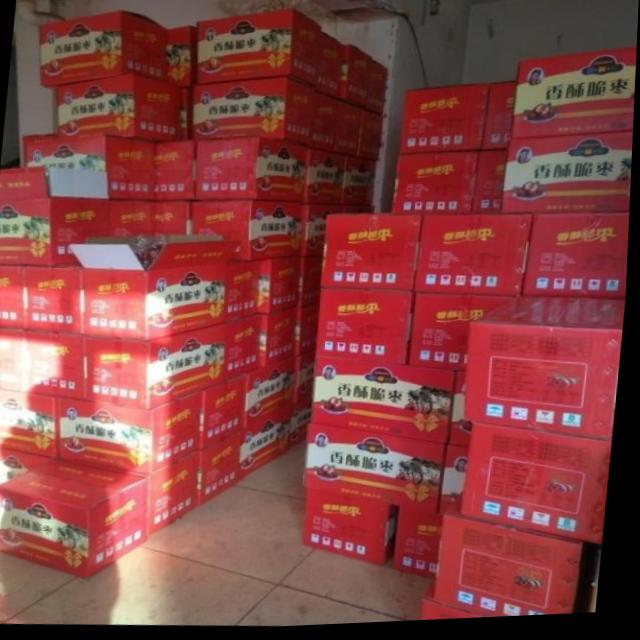box: (467, 326, 625, 446), (0, 460, 155, 580), (464, 429, 616, 551), (72, 236, 242, 343), (440, 519, 589, 622), (307, 424, 451, 519), (313, 356, 460, 447), (88, 324, 232, 412), (61, 394, 207, 478), (0, 167, 112, 269), (512, 52, 637, 143), (503, 136, 634, 218), (40, 11, 168, 92), (195, 11, 322, 90), (417, 217, 535, 302), (523, 219, 632, 306), (410, 295, 523, 376), (192, 78, 319, 148), (25, 136, 157, 202), (53, 75, 183, 142), (305, 488, 405, 571), (323, 215, 424, 295), (196, 136, 311, 204), (320, 290, 416, 369), (194, 202, 305, 263), (400, 88, 492, 156), (394, 154, 482, 218), (26, 330, 90, 403), (153, 453, 206, 541), (0, 390, 62, 461), (26, 265, 87, 336), (398, 510, 451, 584), (246, 360, 299, 433), (245, 410, 296, 483), (523, 302, 627, 336), (204, 378, 250, 453), (202, 433, 246, 511), (0, 445, 64, 487), (427, 583, 492, 624), (305, 148, 349, 208), (156, 141, 198, 203), (260, 259, 303, 317), (262, 309, 300, 371), (482, 87, 517, 154), (474, 153, 510, 218), (302, 205, 346, 258), (230, 316, 265, 381), (338, 48, 374, 110), (441, 447, 471, 519), (450, 374, 477, 452), (231, 262, 262, 325), (110, 199, 157, 239), (311, 93, 340, 154), (0, 265, 27, 330), (0, 328, 27, 392), (168, 28, 196, 89), (346, 157, 379, 208), (317, 35, 342, 101), (336, 99, 363, 159), (358, 111, 385, 162), (155, 202, 194, 237), (292, 400, 315, 458), (302, 256, 326, 310), (298, 306, 322, 360), (297, 354, 320, 410), (367, 63, 389, 118), (182, 89, 193, 141), (346, 206, 377, 216)
